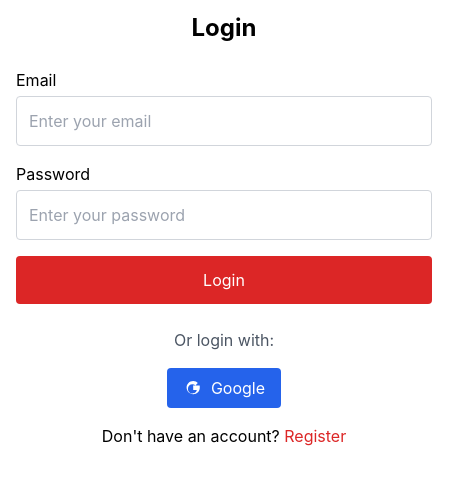
Test: Login Component › handles failed login
Type "test@example.com" into the field labelled "Email" at point(224, 121), box [16,96,432,146]
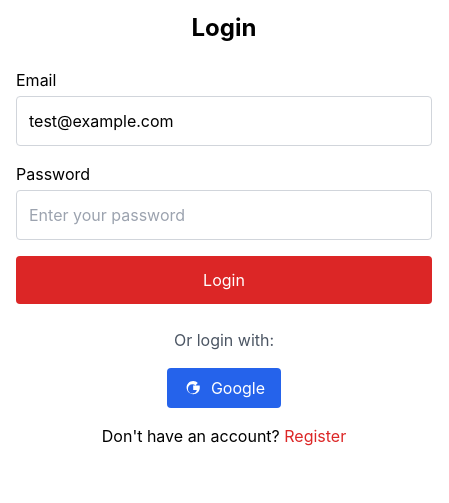
Type "wrongpassword" into the password field labelled "Password" at point(224, 215), box [16,190,432,240]
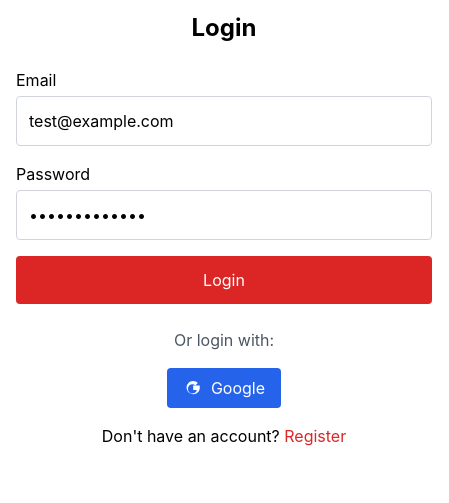
Click the button "Login" at point(224, 280), box [16,256,432,304]
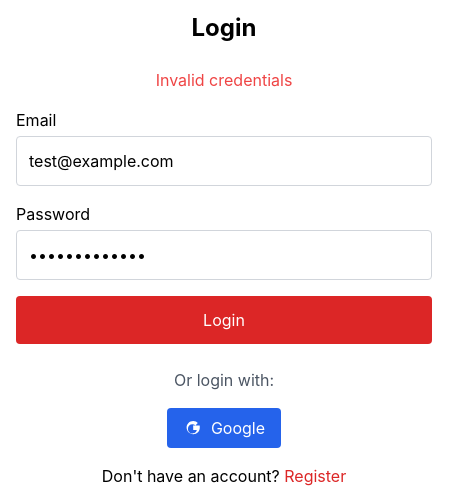
Result: the text "Invalid credentials" is shown at [156,70,292,90]
